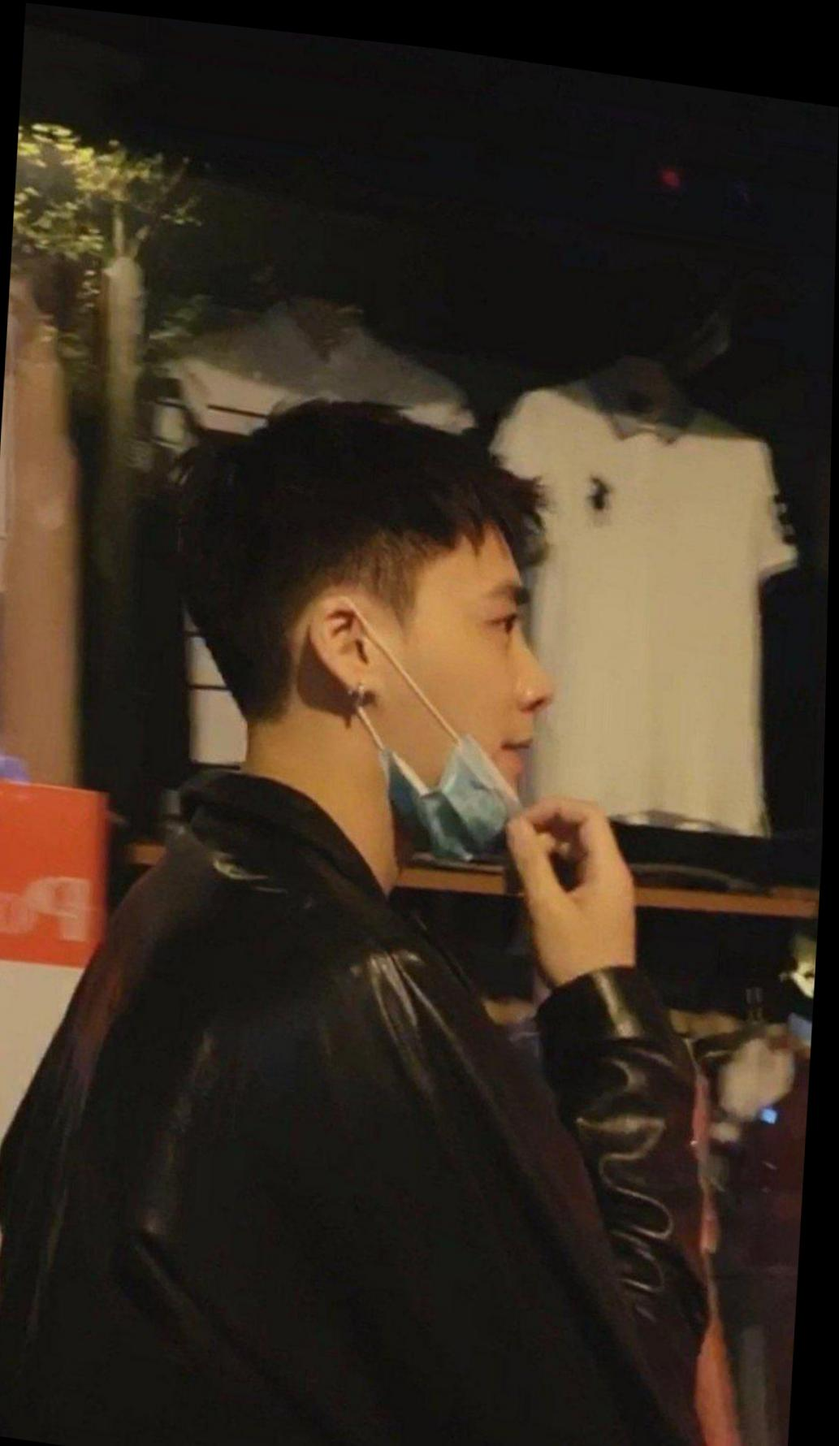WRONG: (396, 535, 558, 850)
